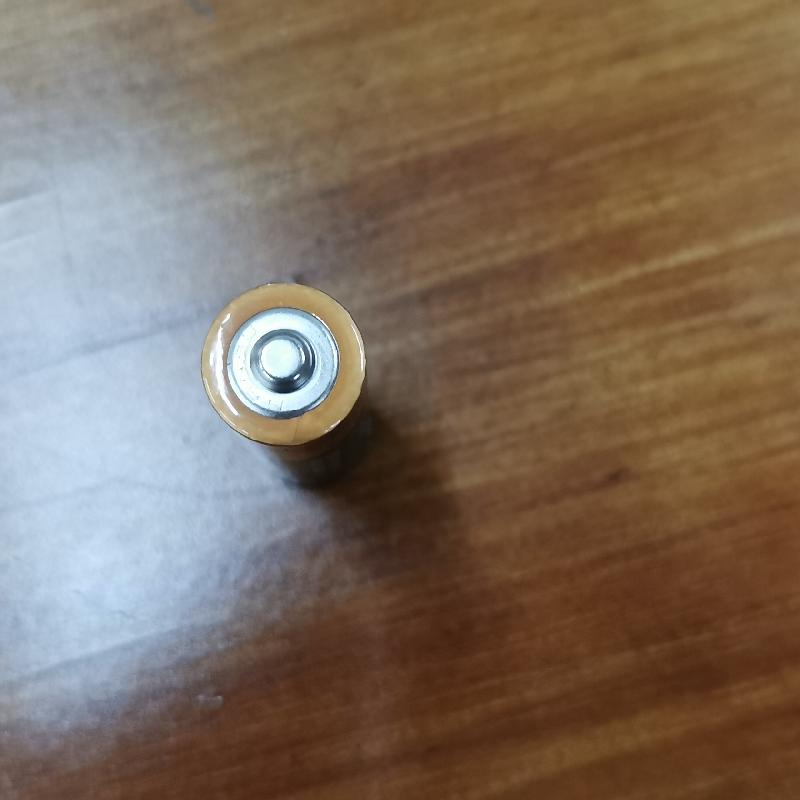battery: (196, 278, 372, 456)
